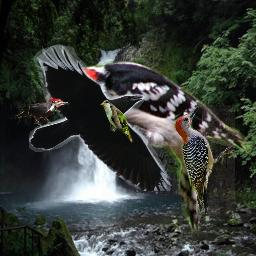Crow: (29, 44, 172, 191)
Cuckoo: (99, 100, 135, 143)
Woodpecker: (35, 59, 253, 237), (171, 105, 235, 214), (10, 98, 70, 127)
